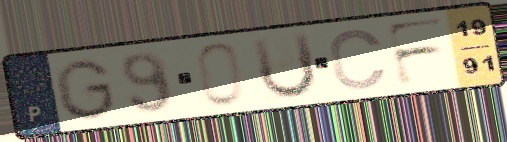0: (192, 39, 251, 110)
9: (118, 50, 177, 116)
C: (326, 26, 391, 92)
F: (382, 15, 450, 90)
G: (51, 57, 120, 122)
U: (248, 29, 320, 102)
